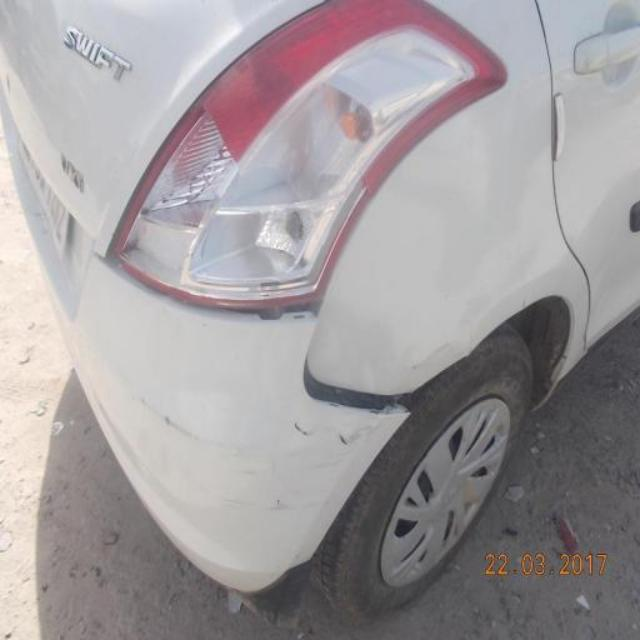crack: (142, 394, 251, 456), (288, 409, 383, 455)
dislocated part: (302, 353, 429, 428), (190, 284, 322, 331)
lamp broken: (150, 46, 469, 293)
